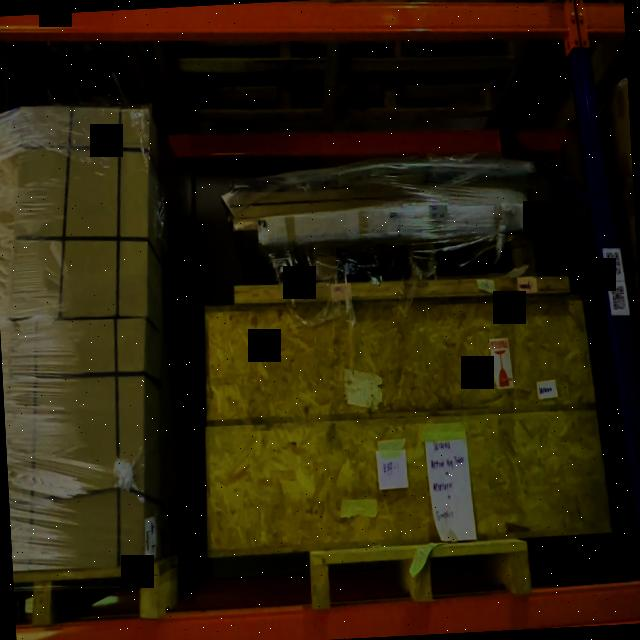box: (207, 411, 614, 557), (204, 298, 598, 420), (8, 110, 149, 322)
